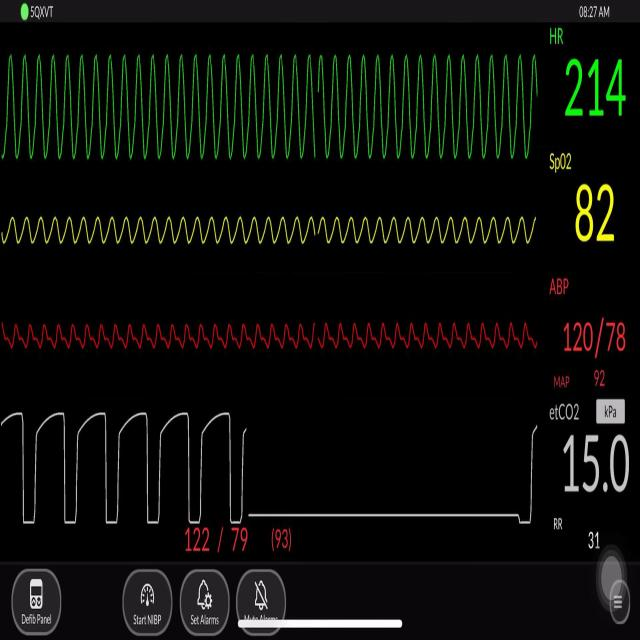danger: (3, 52, 510, 175)
